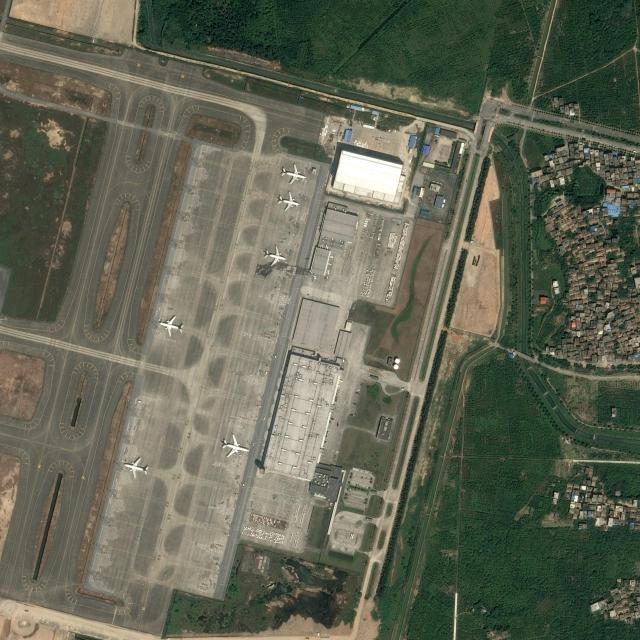aircraft: (220, 432, 250, 458), (157, 314, 185, 336), (278, 163, 306, 184), (123, 456, 148, 478), (263, 245, 286, 266), (276, 191, 300, 211)
